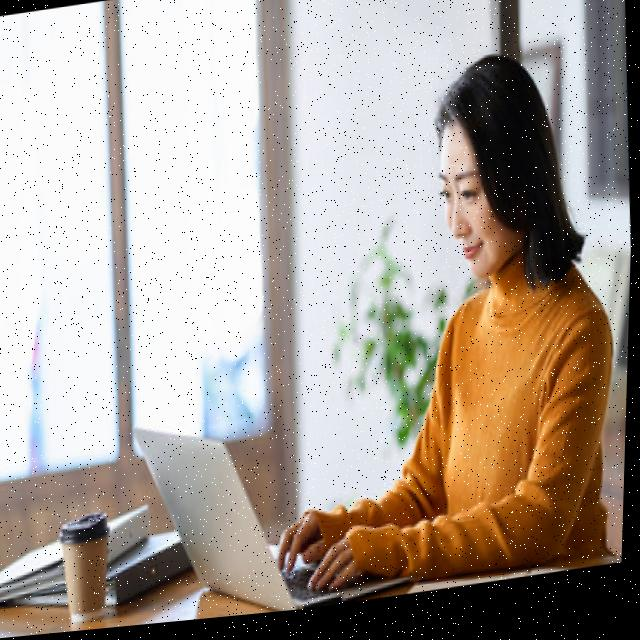notebook-person: (111, 33, 638, 630)
